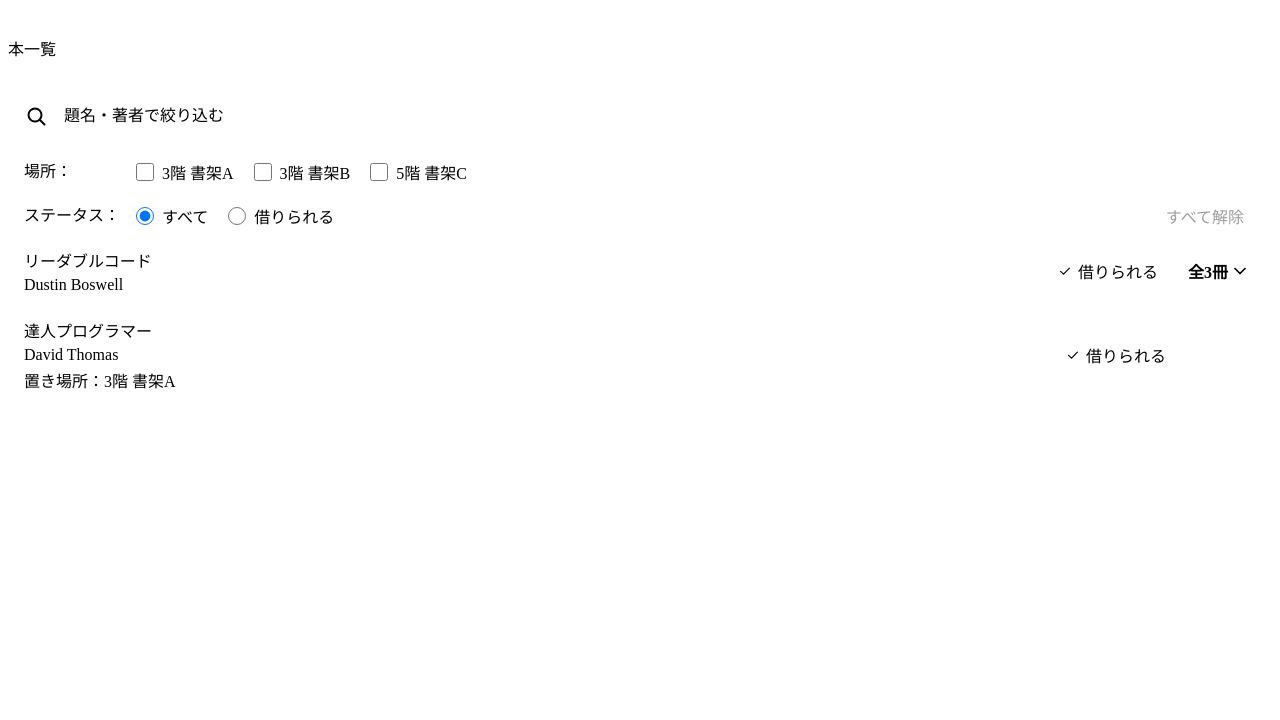
it: BookListPage の同じ本のまとまり › SB-40: まとまりの行を押すと開き、1冊ずつの置き場所と状態の印を行ごとに表示する
This screenshot has width=1280, height=720.
Click the button "リーダブルコード Dustin Boswell 借りられる 全3冊" at (88, 262), box [8,236,1272,306]
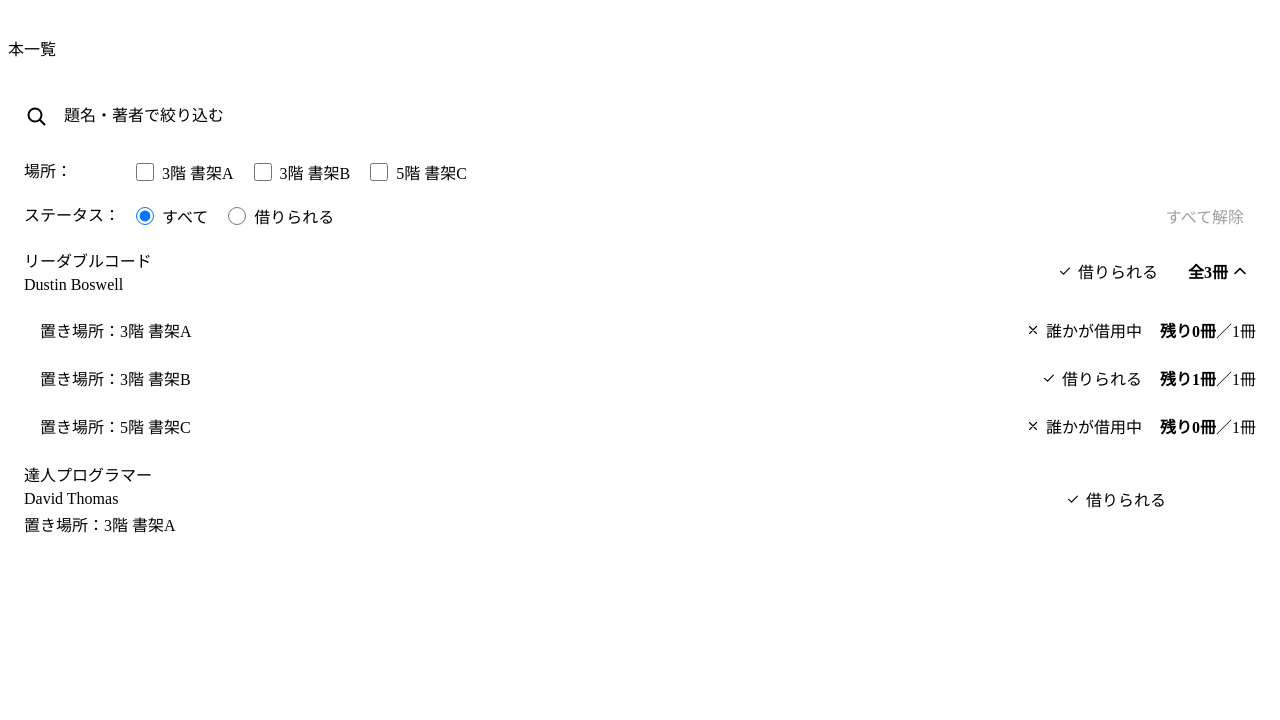
Expected: the button "リーダブルコード Dustin Boswell 借りられる 全3冊" is expanded, [8,236,1272,306]
